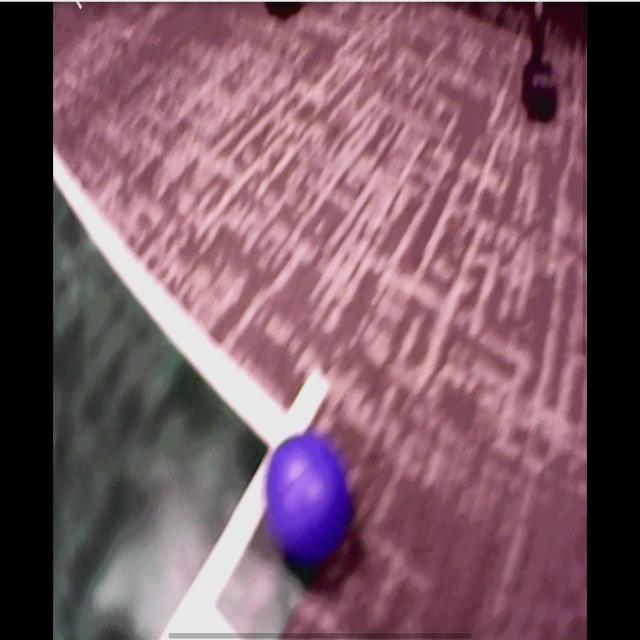ball: (268, 434, 350, 561)
